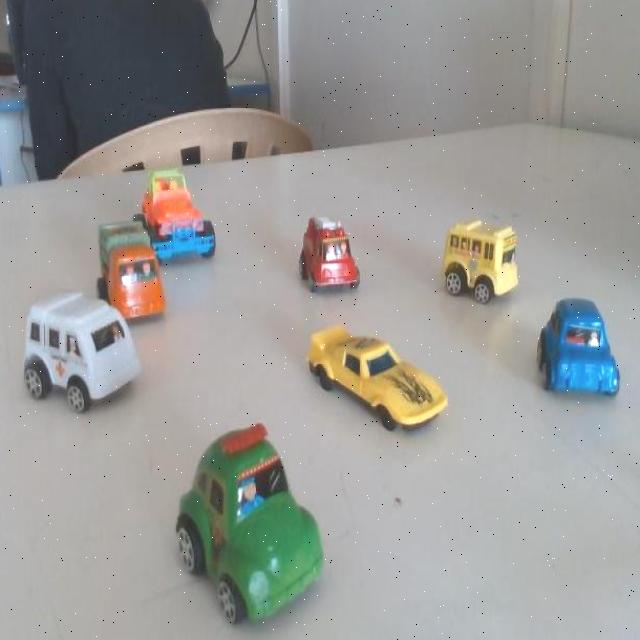car: (164, 424, 336, 631), (20, 272, 153, 435), (309, 316, 444, 440), (434, 217, 520, 318), (286, 204, 363, 314), (543, 297, 622, 402), (143, 160, 222, 262), (98, 209, 164, 326)
